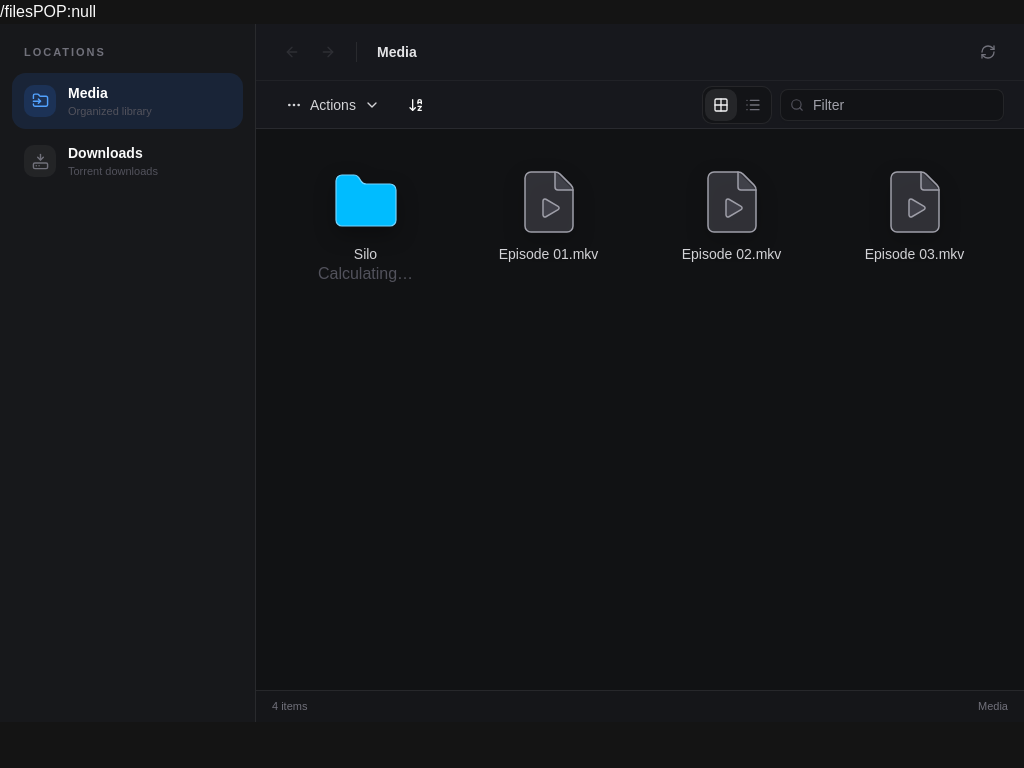
Scenario: FileManager › opens batch rename with F2 for multiple selected items
Click the button with aria-label "Episode 01.mkv" at point(548, 226), box [463, 153, 634, 299]
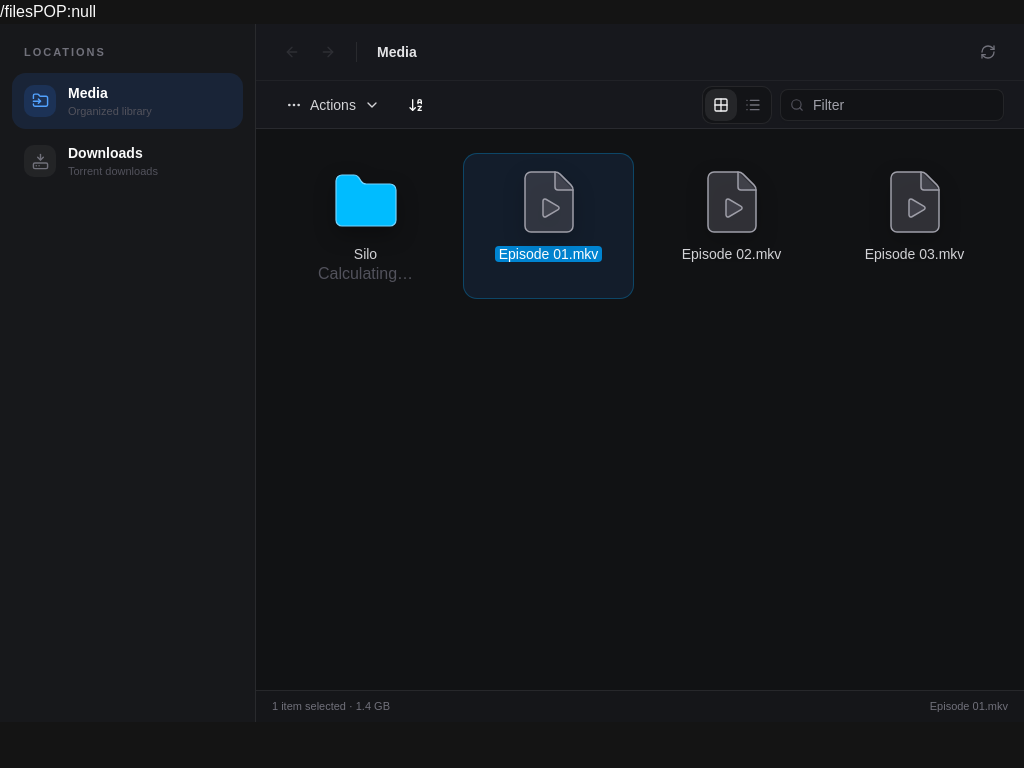
Click the button with aria-label "Episode 02.mkv" at point(732, 226), box [646, 153, 817, 299]
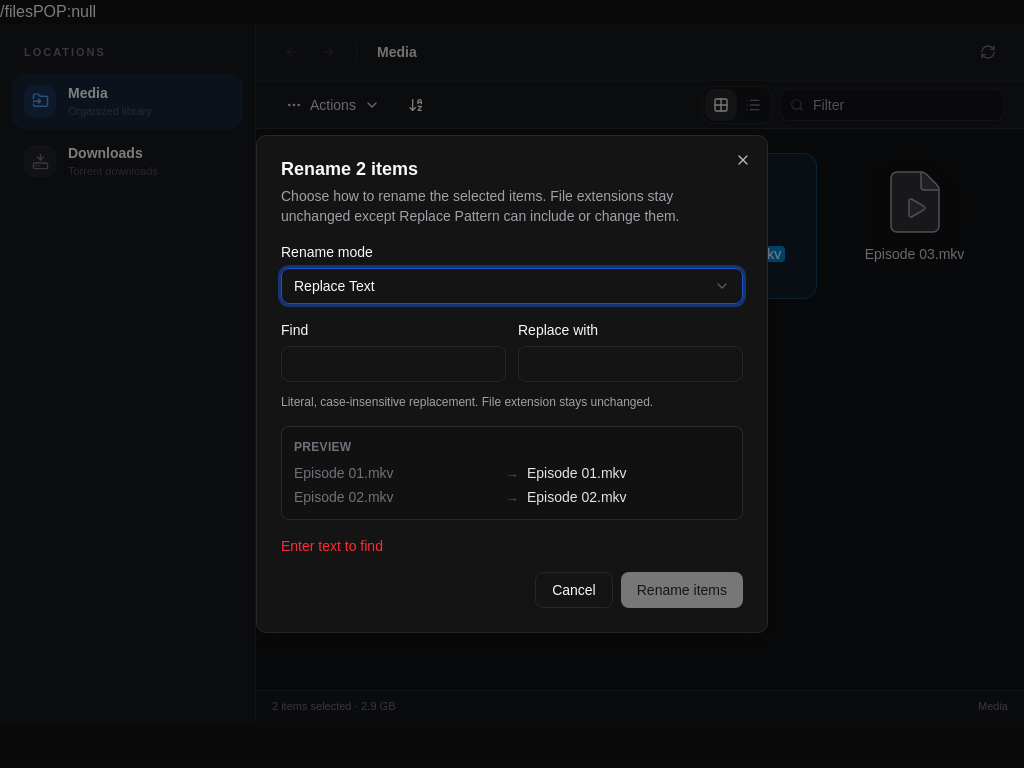
Expected: the dropdown named "Rename mode" is shown, [281, 268, 743, 304]
Expected: the text "Rename 2 items" is shown, [281, 159, 418, 179]
